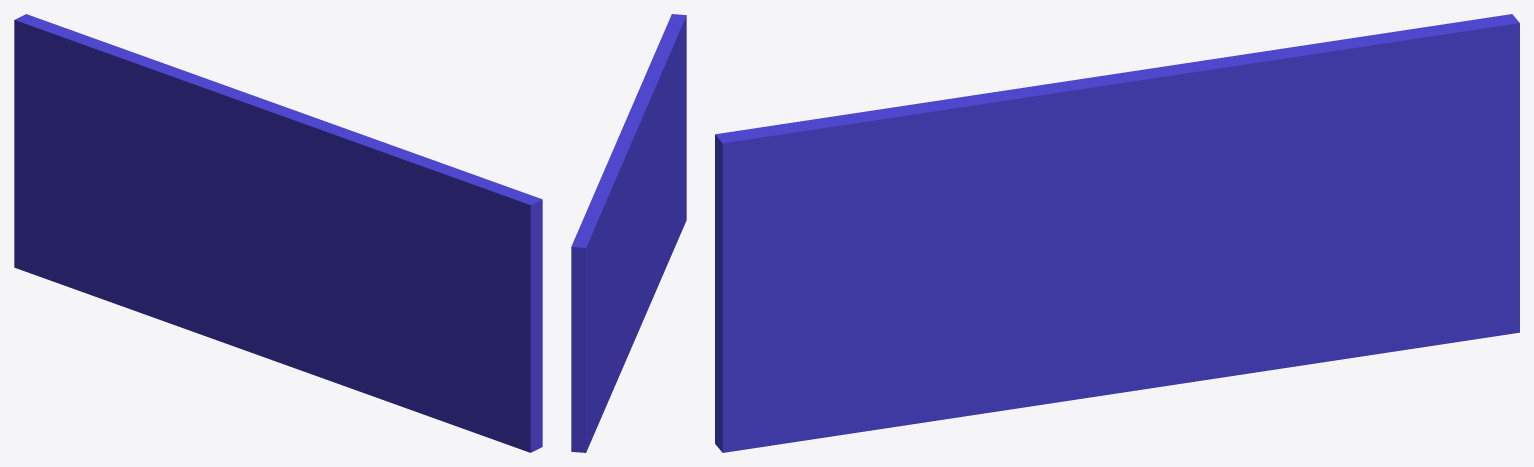
The model's file is retexture_input_2c85de68-ec37-4f0d-a1ae-6ce1933646ab.glb.
The picture shows the model from 3 angles, left to right: view 1: azimuth 30°, elevation 25°; view 2: azimuth 150°, elevation 25°; view 3: azimuth 270°, elevation 25°; orthographic projection. The views are drawn at different scales.
Bounding box in the file's own units: 2.69 × 3 × 7.07.
